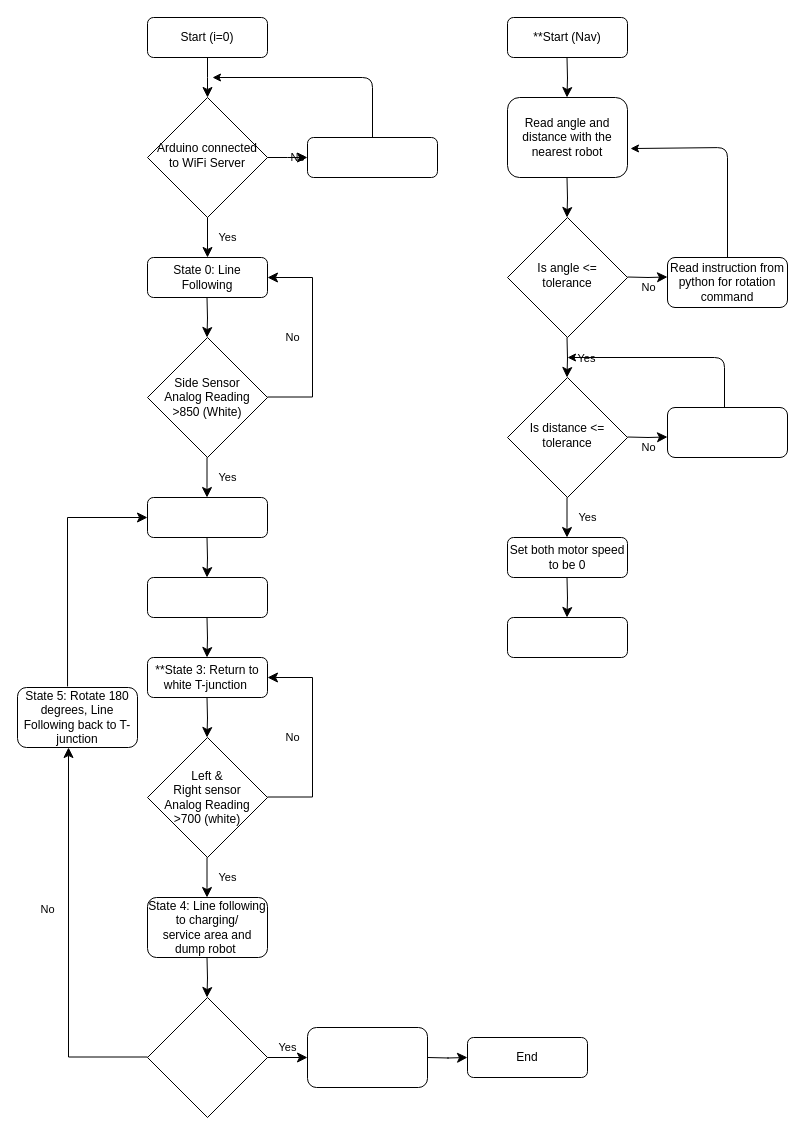
The diagram is 805 pixels wide and 1135 high, and some of its shapes have lost their labels. Here are the shapes that lost their labels. From the top down, the centre of each, then its label:
the point at 372,157: Reconnect to WiFi Server
the point at 727,432: Read instruction from python for forward command
the point at 207,517: **State 1: Pathfinding to target
the point at 207,597: State 2: Picking up target (i++)
the point at 567,637: End**
the point at 207,1057: i >= 3 (Robot count)
the point at 367,1057: State 6: Return to Starting point (Preset and Line following)
